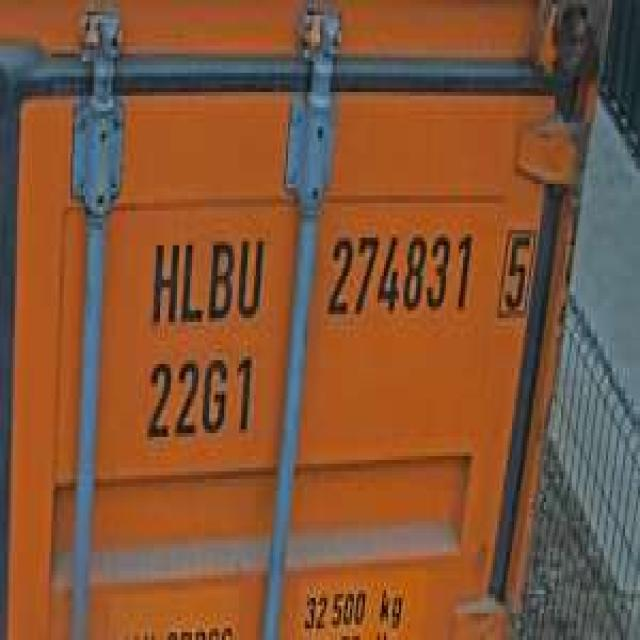dv: (493, 211, 540, 322)
owner: (145, 222, 267, 330)
serial: (322, 218, 476, 326)
size: (141, 345, 258, 448)
